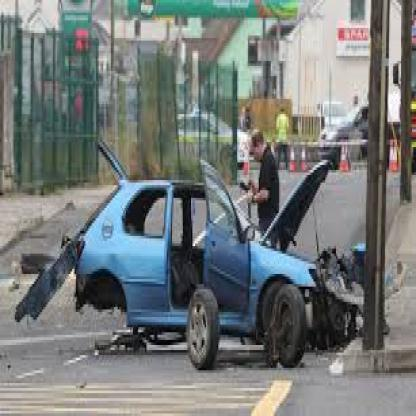accident: (12, 132, 374, 394)
